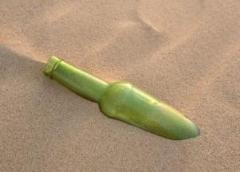glass: (43, 57, 202, 144)
